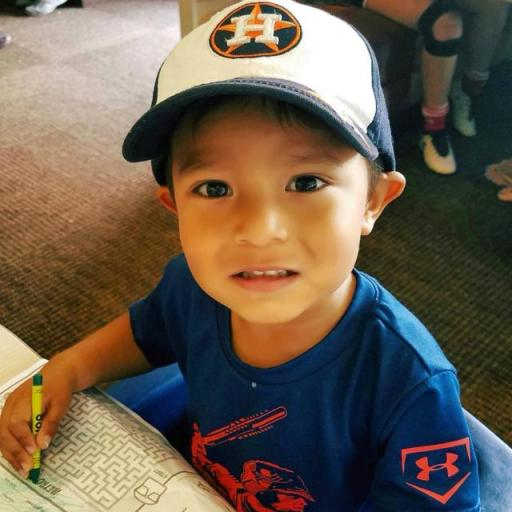Under Armour: (398, 434, 476, 506)
